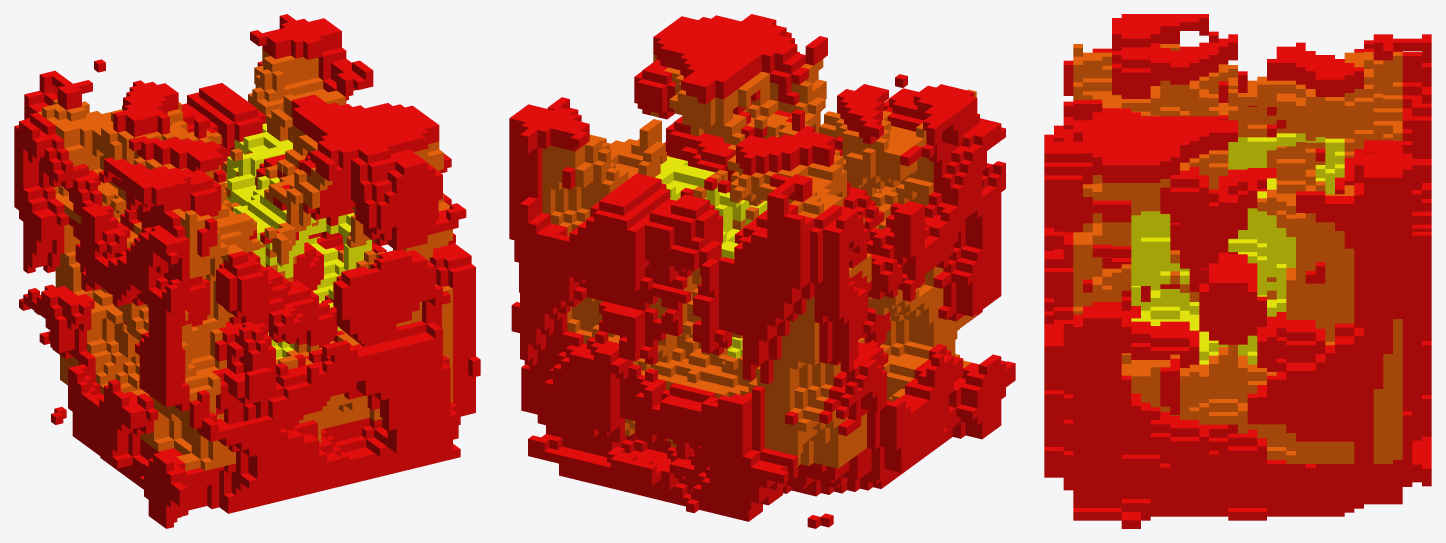
File: Fire6.obj
3 renders of one model, left to right at view 1: azimuth 30°, elevation 25°; view 2: azimuth 150°, elevation 25°; view 3: azimuth 270°, elevation 25°, orthographic. The views are drawn at different scales.
Size of the model in its own units: 4 by 4 by 4.
Materials: 1 (1 with a texture image).
